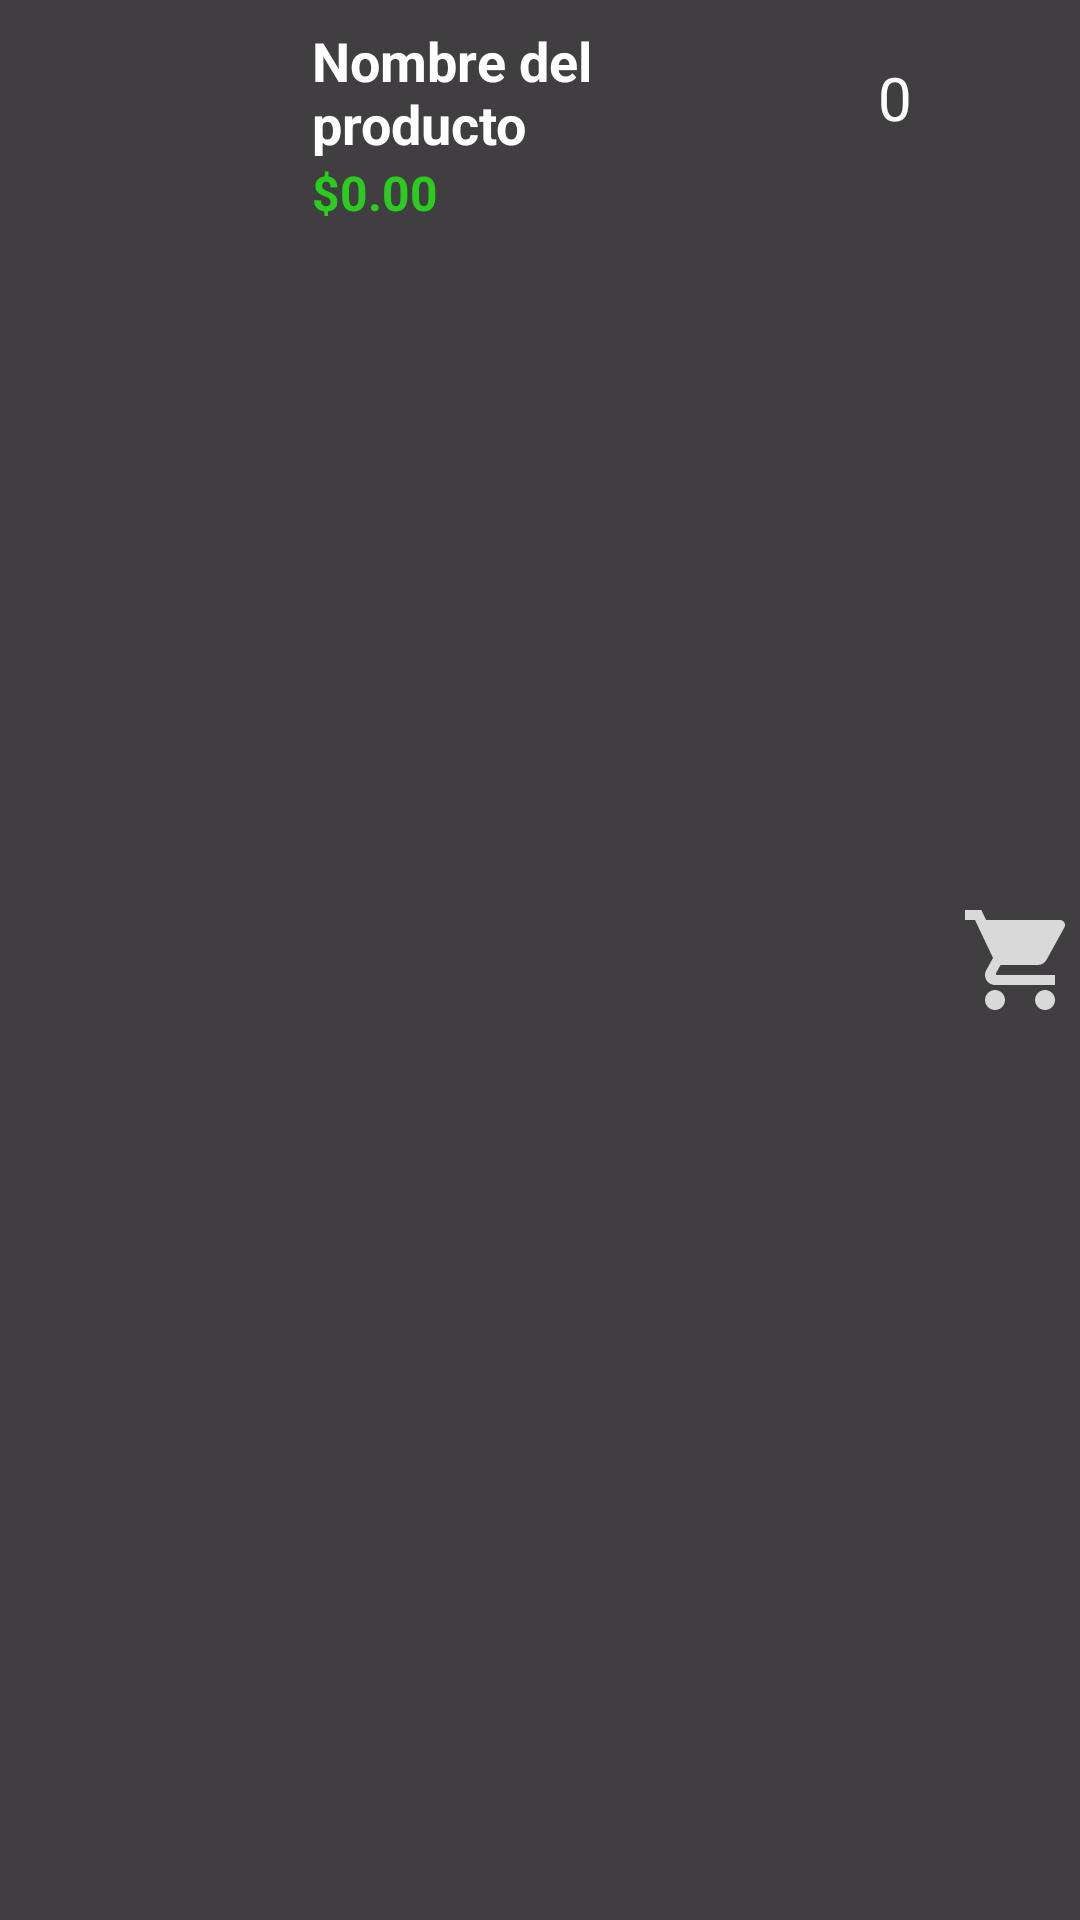

Named icons in this screenshot (1080x1920) and their centers, point (x, y):
Añadir al carrito: point (1015, 960)
